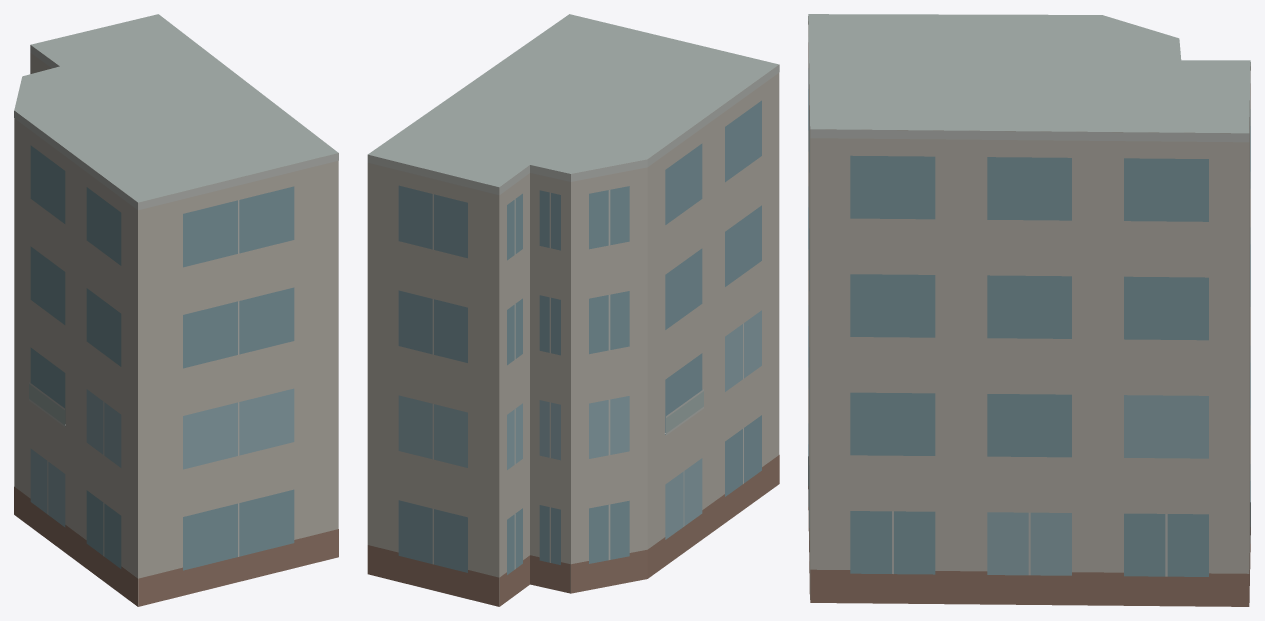
The model's file is survey-upis-32779965.glb.
The picture shows the model from 3 angles, left to right: view 1: azimuth 30°, elevation 25°; view 2: azimuth 150°, elevation 25°; view 3: azimuth 270°, elevation 25°; orthographic projection. The views are drawn at different scales.
Visible parts, largest first — view 1: survey-upis-32779965.tmp; view 2: survey-upis-32779965.tmp; view 3: survey-upis-32779965.tmp.
Part boxes in pixels (box(x1,y1,x2,y2)): survey-upis-32779965.tmp: box(14, 14, 338, 606); survey-upis-32779965.tmp: box(367, 14, 779, 606); survey-upis-32779965.tmp: box(808, 14, 1250, 606).
Bounding box in the file's own units: 6.93 × 12.8 × 10.85.
